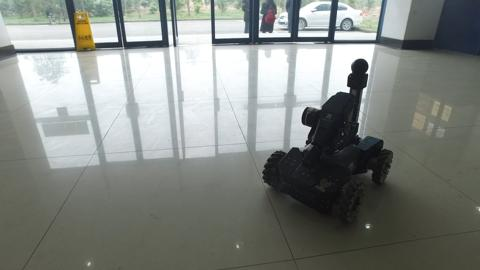car: (276, 1, 366, 32)
chariot: (260, 56, 394, 225)
